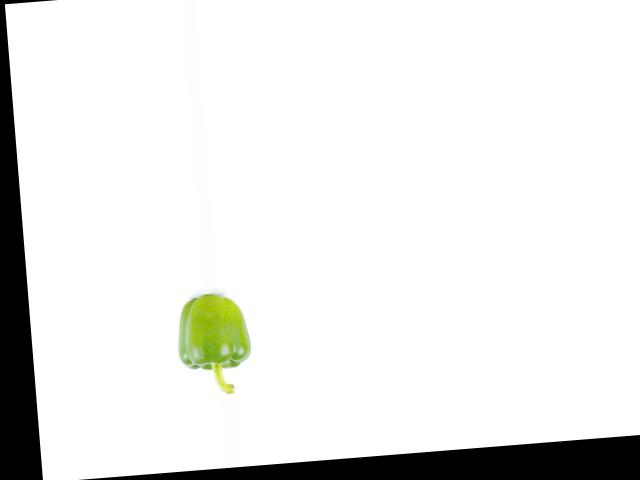bell_pepper: (162, 291, 255, 396)
